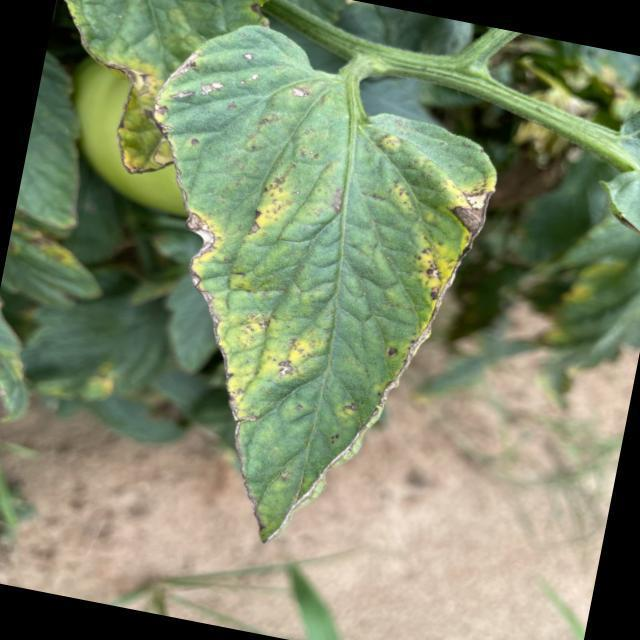Bacterial Spot: (89, 42, 501, 575)
